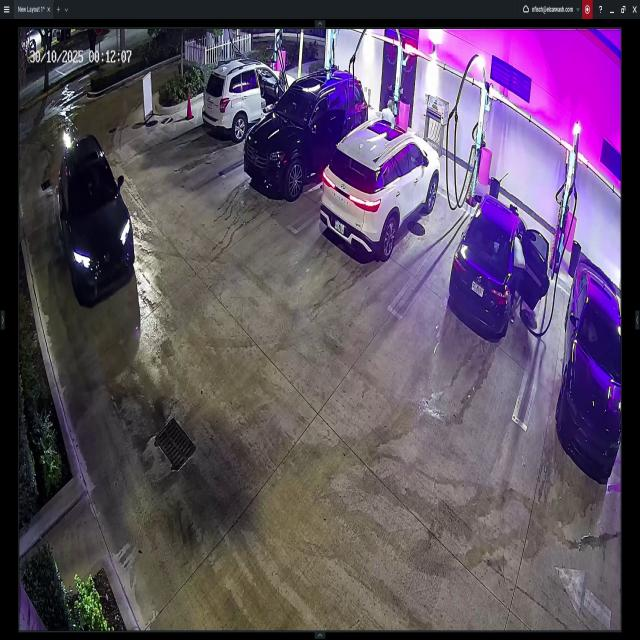Car: (324, 119, 438, 255), (245, 73, 366, 198), (452, 191, 548, 345), (564, 257, 623, 468), (57, 138, 133, 298), (204, 56, 299, 143)
